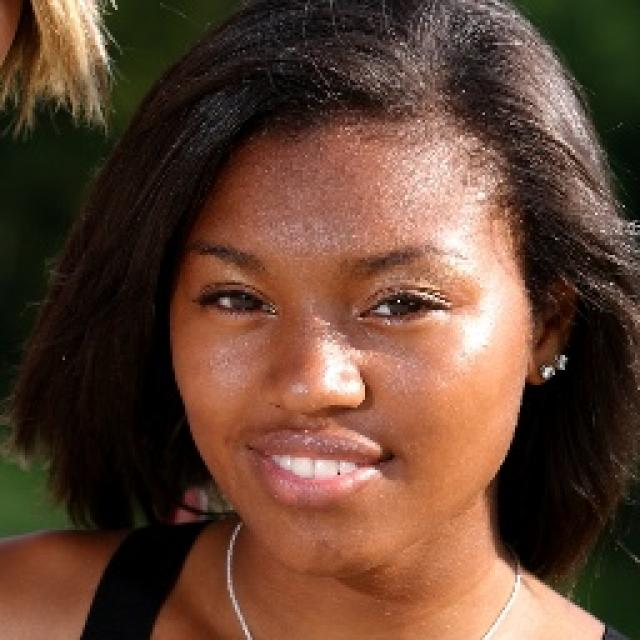earlobe: (526, 270, 583, 387)
